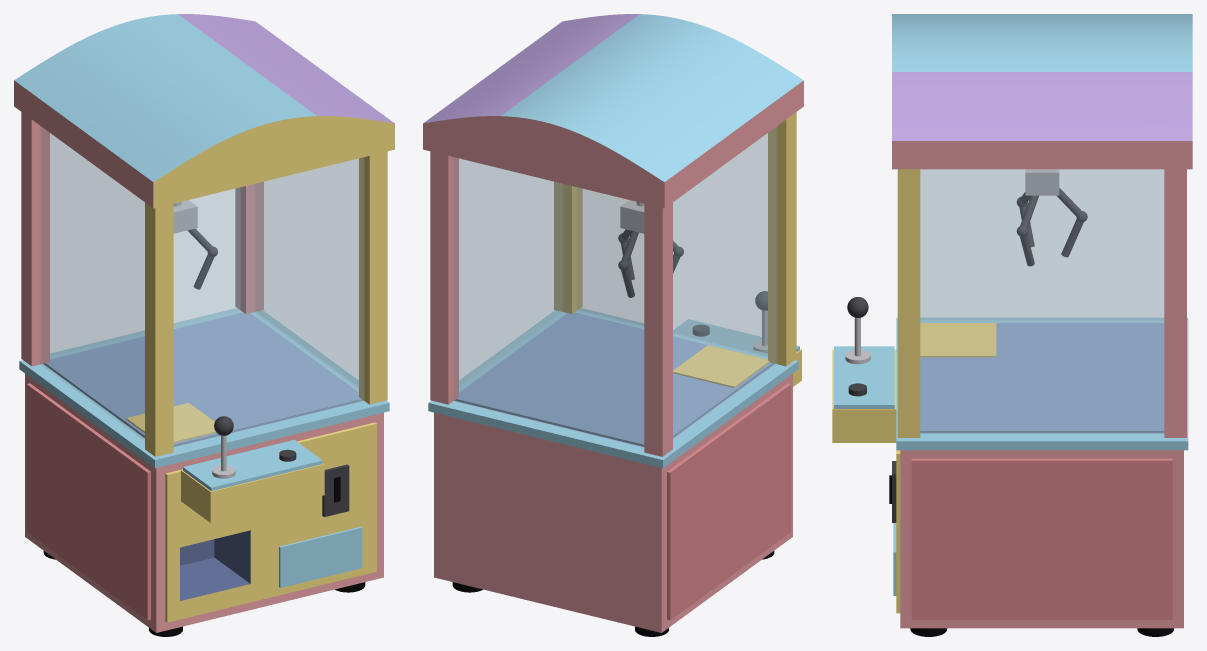
The model's file is claw_machine.glb.
3 renders of one model, left to right at view 1: azimuth 30°, elevation 25°; view 2: azimuth 150°, elevation 25°; view 3: azimuth 270°, elevation 25°, orthographic. The views are drawn at different scales.
Visible parts, largest first — view 1: 屋頂, 玻璃前, 玻璃左, 玻璃後, 玩區地板, 左側面板, 玻璃右, 前面板, 機台主體, 頂板, 柱子1, 柱子2 (+8 smaller); view 2: 屋頂, 玻璃後, 機台主體, 玻璃左, 玻璃前, 玩區地板, 左側面板, 玻璃右, 頂板, 柱子3, 柱子4, 柱子1 (+4 smaller); view 3: 玻璃右, 屋頂, 右側面板, 玻璃左, 玩區地板, 機台主體, 頂板, 柱子2, 柱子4, 操作台面, 出貨洞, 操作台 (+2 smaller).
Boxes of the visible parts, x1,y1,x2,y2 form: 屋頂: (14, 14, 394, 208); 玻璃前: (174, 157, 364, 447); 玻璃左: (40, 126, 144, 440); 玻璃後: (50, 133, 240, 356); 玩區地板: (43, 312, 363, 446); 左側面板: (26, 383, 150, 620); 玻璃右: (255, 159, 358, 388); 前面板: (165, 422, 376, 622); 機台主體: (25, 373, 383, 632); 頂板: (19, 308, 389, 468); 柱子1: (145, 202, 173, 456); 柱子2: (359, 151, 387, 404); 屋頂: (423, 14, 803, 208); 玻璃後: (453, 157, 643, 447); 機台主體: (434, 373, 792, 632); 玻璃左: (673, 126, 777, 440); 玻璃前: (577, 133, 767, 356); 玩區地板: (454, 312, 774, 446); 左側面板: (667, 383, 791, 620); 玻璃右: (459, 159, 562, 388); 頂板: (428, 308, 798, 468); 柱子3: (644, 202, 672, 456); 柱子4: (430, 151, 458, 404); 柱子1: (768, 112, 796, 366); 玻璃右: (920, 169, 1163, 433); 屋頂: (892, 14, 1192, 169); 右側面板: (911, 458, 1172, 619); 玻璃左: (921, 170, 1163, 320); 玩區地板: (920, 323, 1164, 433); 機台主體: (900, 450, 1183, 628); 頂板: (896, 317, 1188, 450); 柱子2: (897, 169, 920, 437); 柱子4: (1164, 169, 1186, 437); 操作台面: (834, 346, 894, 408); 出貨洞: (920, 323, 996, 357); 操作台: (832, 349, 896, 442).
Bounding box in the file's own units: 2.12 × 4.18 × 2.54.
